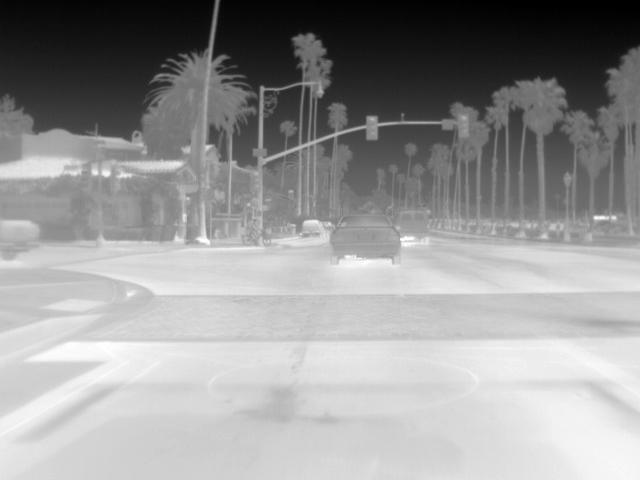car: (328, 212, 402, 266), (1, 216, 43, 262), (397, 209, 431, 242), (302, 220, 324, 238)
person: (245, 218, 262, 244)
